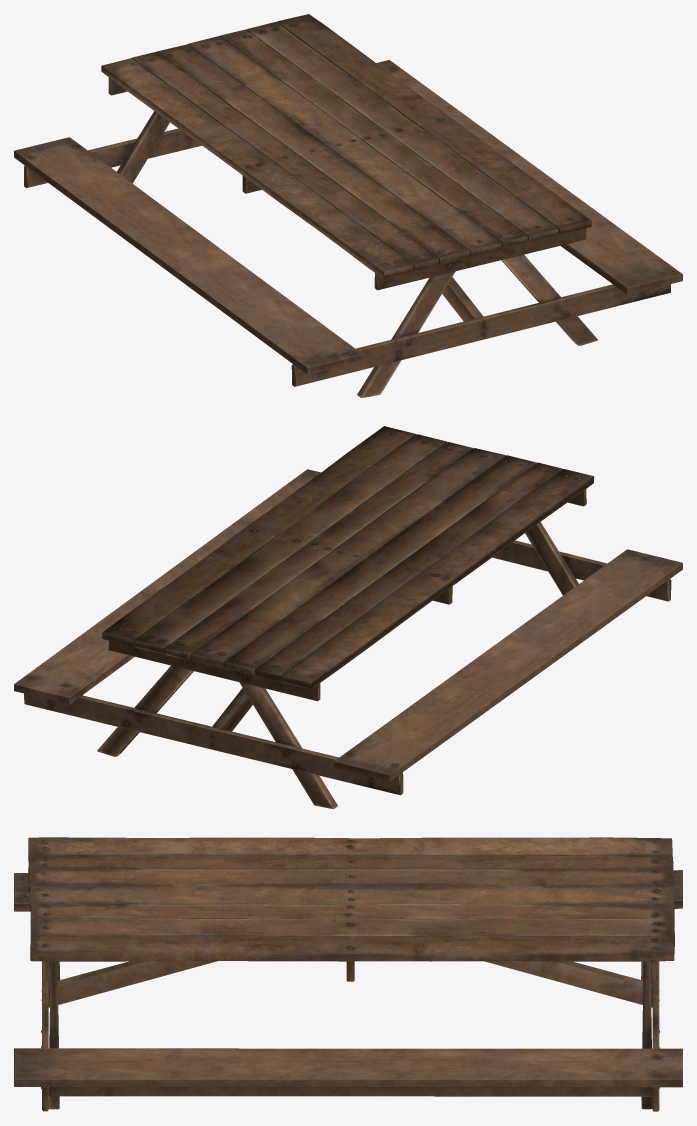
Rendered from ph_wooden_picnic_table.glb.
The picture shows the model from 3 angles, top to bottom: view 1: azimuth 30°, elevation 25°; view 2: azimuth 150°, elevation 25°; view 3: azimuth 270°, elevation 25°; orthographic projection. The views are drawn at different scales.
Visible parts, largest first — view 1: wooden_picnic_table; view 2: wooden_picnic_table; view 3: wooden_picnic_table.
Part boxes in pixels (bbox=[...]): wooden_picnic_table: bbox=[14, 14, 682, 397]; wooden_picnic_table: bbox=[14, 426, 682, 808]; wooden_picnic_table: bbox=[14, 837, 682, 1111].
Size of the model in its own units: 2.24 by 0.7462 by 3.02.
2 materials, 2 textured.
